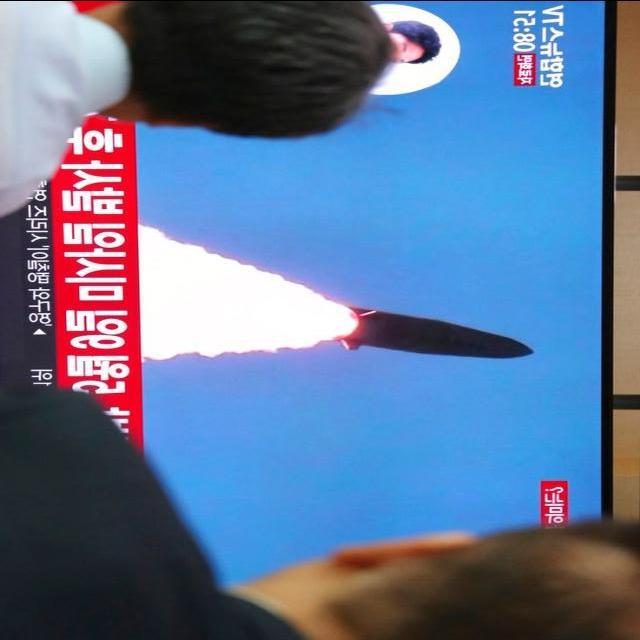missile: (336, 300, 541, 362)
